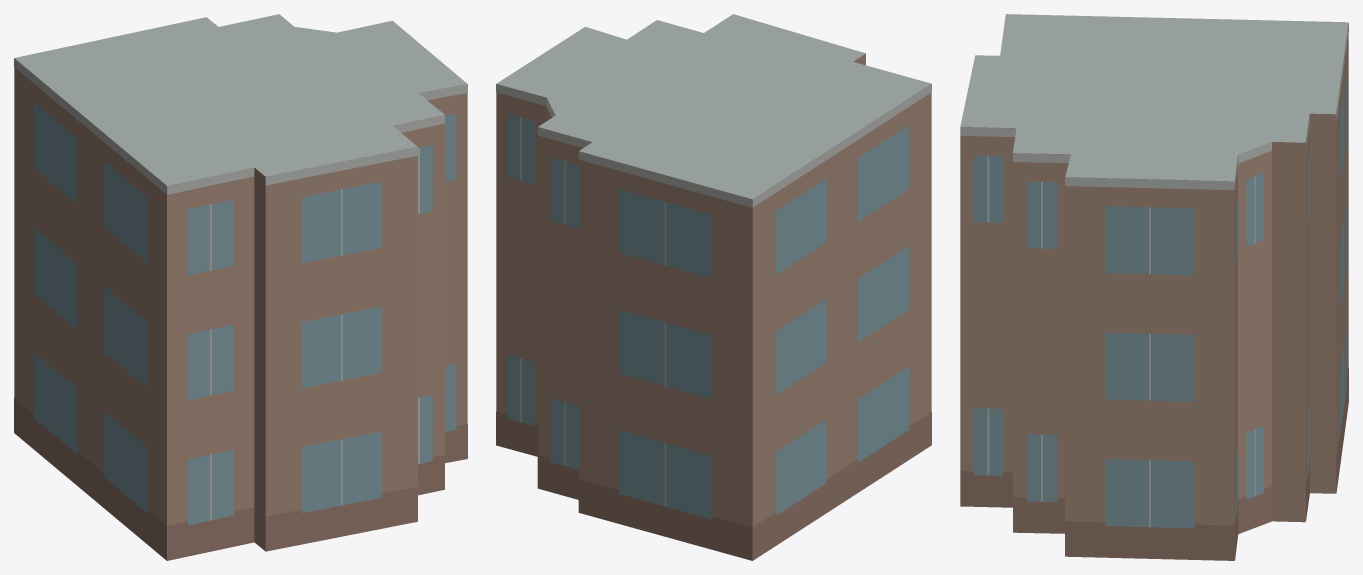
The model's file is survey-upis-32800190.glb.
3 views of the same model, side by side, from view 1: azimuth 30°, elevation 25°; view 2: azimuth 150°, elevation 25°; view 3: azimuth 270°, elevation 25° (orthographic). The views are drawn at different scales.
Parts seen in each view (by area): view 1: survey-upis-32800190.tmp; view 2: survey-upis-32800190.tmp; view 3: survey-upis-32800190.tmp.
Part boxes in pixels (x1,y1,x2,y2): survey-upis-32800190.tmp: [14, 14, 467, 560]; survey-upis-32800190.tmp: [496, 14, 931, 560]; survey-upis-32800190.tmp: [960, 14, 1348, 560].
Bounding box in the file's own units: 9.75 × 10.3 × 9.57.
